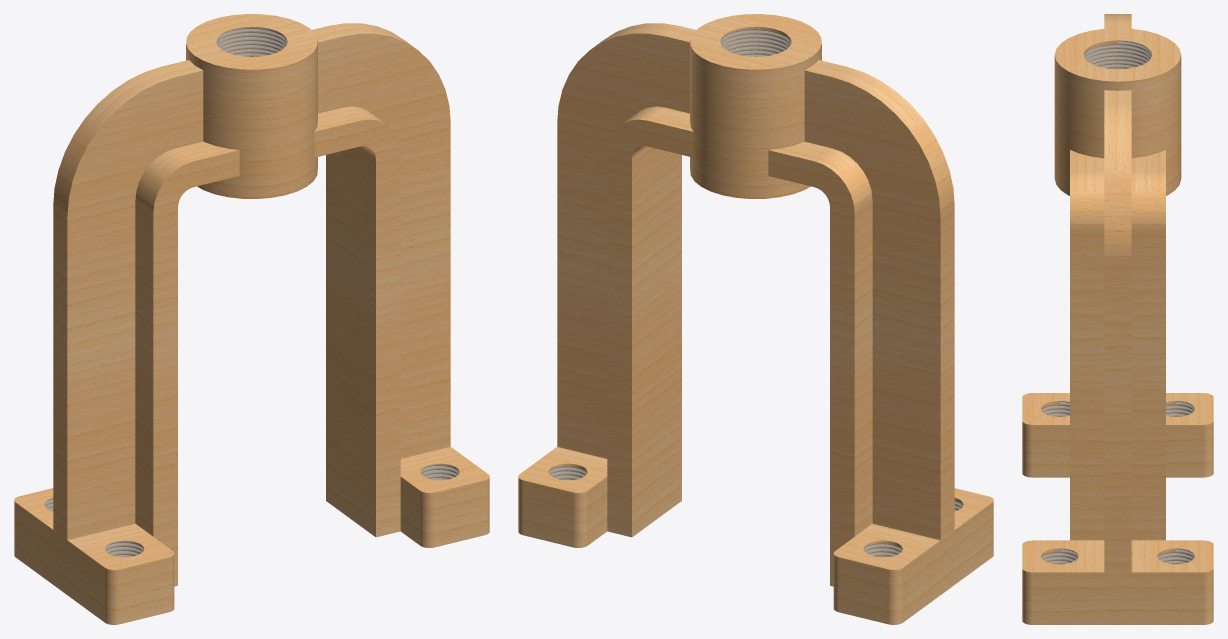
Rendered from Practice57_1.glb.
3 renders of one model, left to right at view 1: azimuth 30°, elevation 25°; view 2: azimuth 150°, elevation 25°; view 3: azimuth 270°, elevation 25°, orthographic. The views are drawn at different scales.
Visible parts, largest first — view 1: Part, Part 2; view 2: Part, Part 2; view 3: Part, Part 2.
Boxes of the visible parts, x1=… form: Part: x1=14, y1=14, x2=489, y2=624; Part 2: x1=44, y1=28, x2=459, y2=557; Part: x1=518, y1=14, x2=993, y2=624; Part 2: x1=548, y1=29, x2=962, y2=557; Part: x1=1022, y1=14, x2=1213, y2=624; Part 2: x1=1041, y1=40, x2=1194, y2=564.
Bounding box in the file's own units: 0.124 × 0.155 × 0.056.
2 materials, 1 textured.
